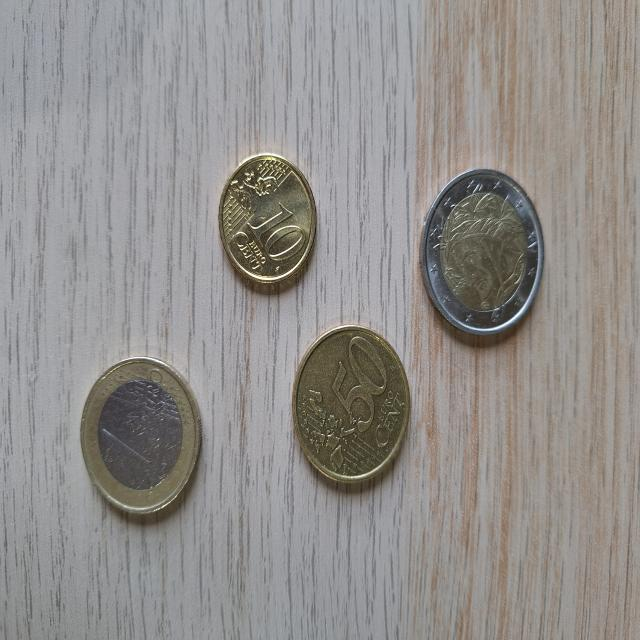10c: (219, 153, 318, 287)
1e: (79, 352, 202, 516)
2e: (420, 168, 544, 340)
50c: (290, 323, 413, 490)
